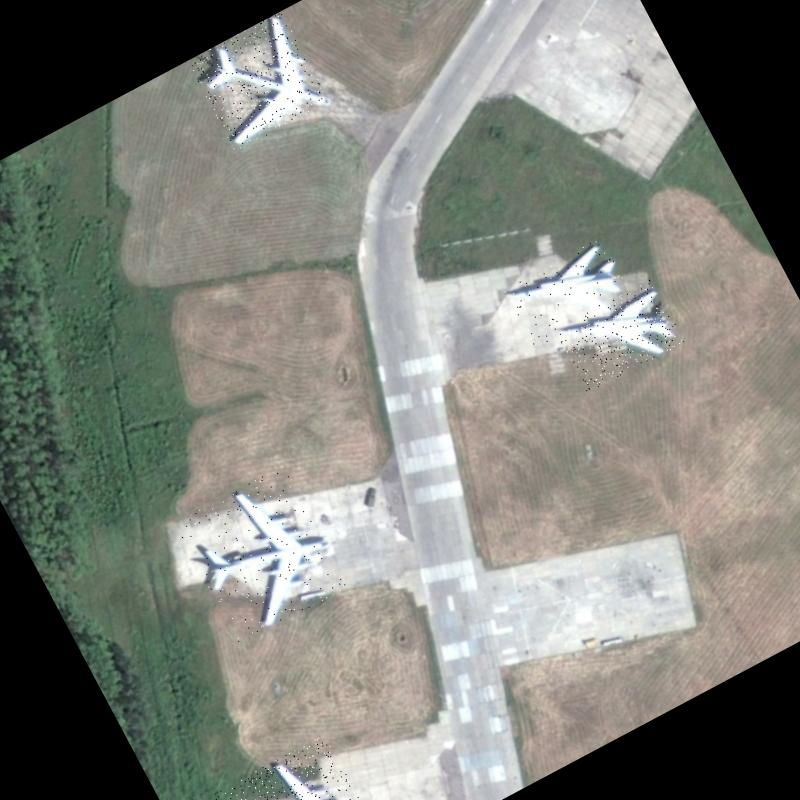A12: (502, 236, 636, 352), (554, 277, 685, 393)
A17: (174, 464, 347, 644), (187, 11, 330, 152), (212, 733, 389, 800)
